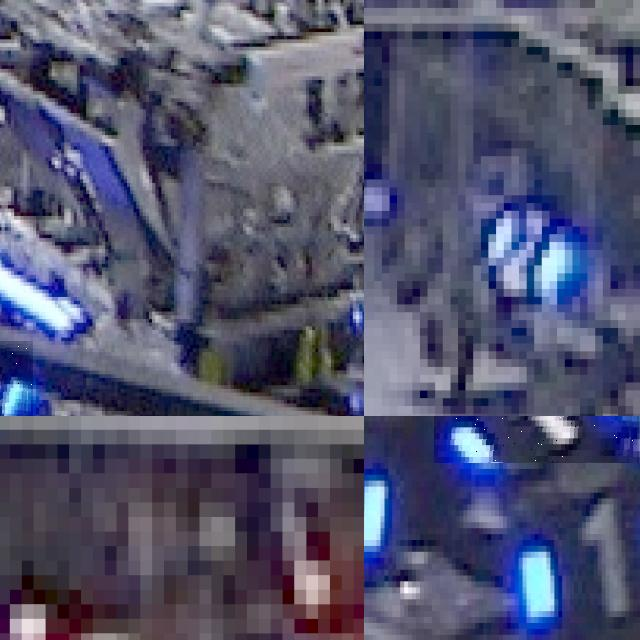B1: (508, 483, 640, 640), (433, 416, 639, 462)
B2: (481, 203, 572, 312), (0, 341, 34, 416)
